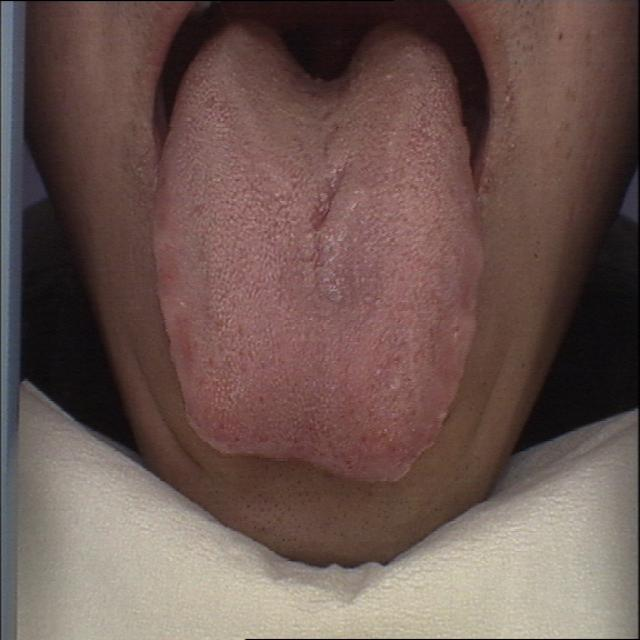tongue: (144, 22, 485, 488)
